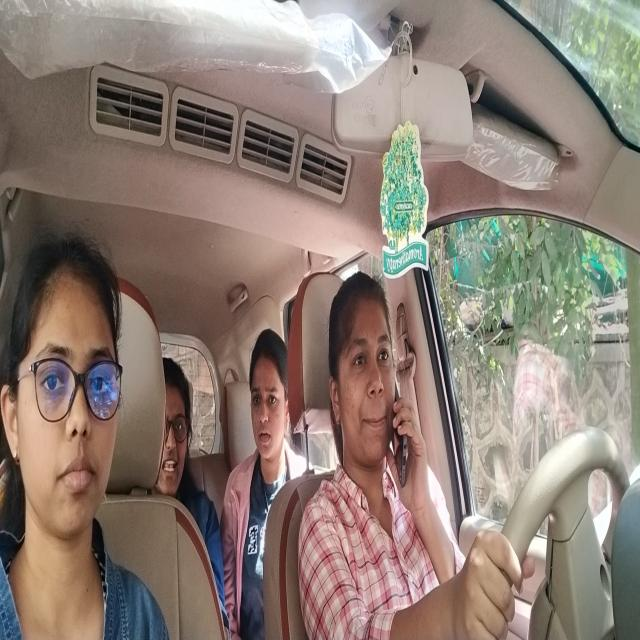mobile: (392, 389, 418, 493)
person: (0, 224, 129, 561), (325, 263, 399, 475), (245, 328, 293, 484), (160, 364, 198, 504)
